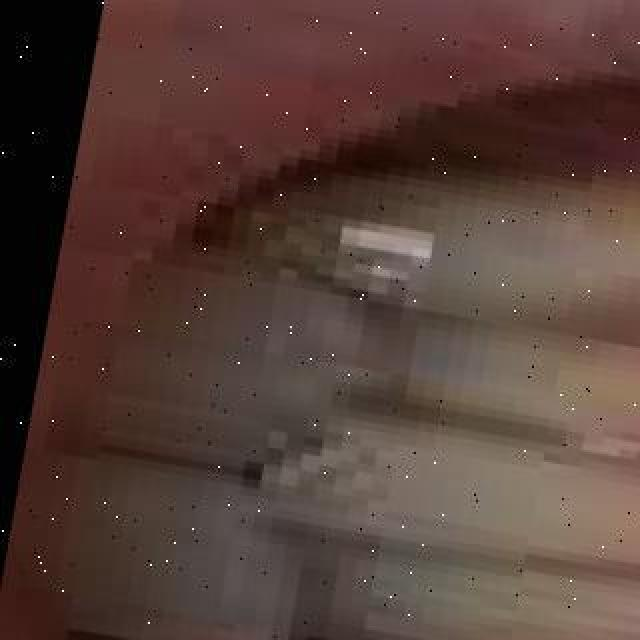maligned: (254, 422, 640, 578)
spacing: (244, 602, 600, 640)
stains: (522, 168, 640, 308)
